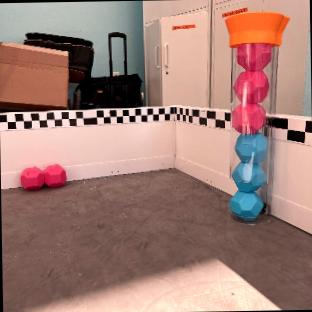Loader: (224, 10, 288, 221)
V5_BLUE: (229, 134, 266, 219)
V5_RED: (231, 42, 271, 133), (232, 93, 264, 133), (20, 163, 66, 189), (236, 42, 271, 68)
